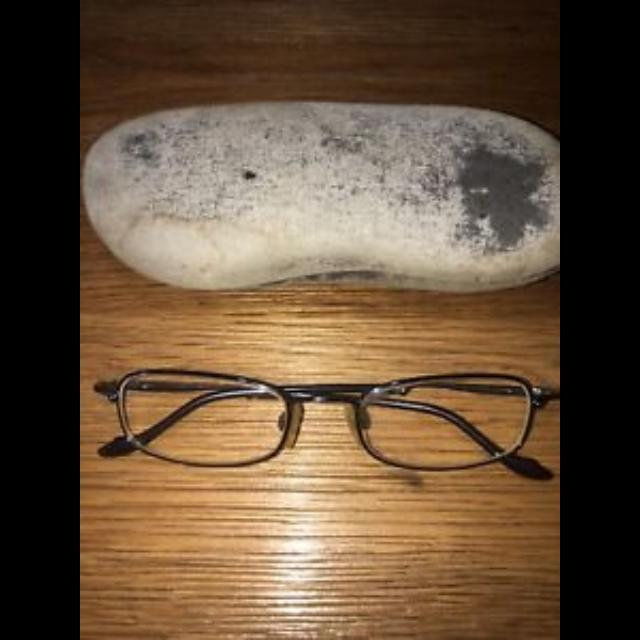mask: (94, 366, 560, 486)
